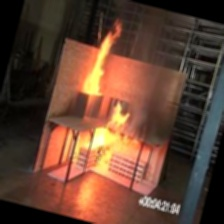fire: (67, 12, 133, 110), (85, 104, 139, 175)
